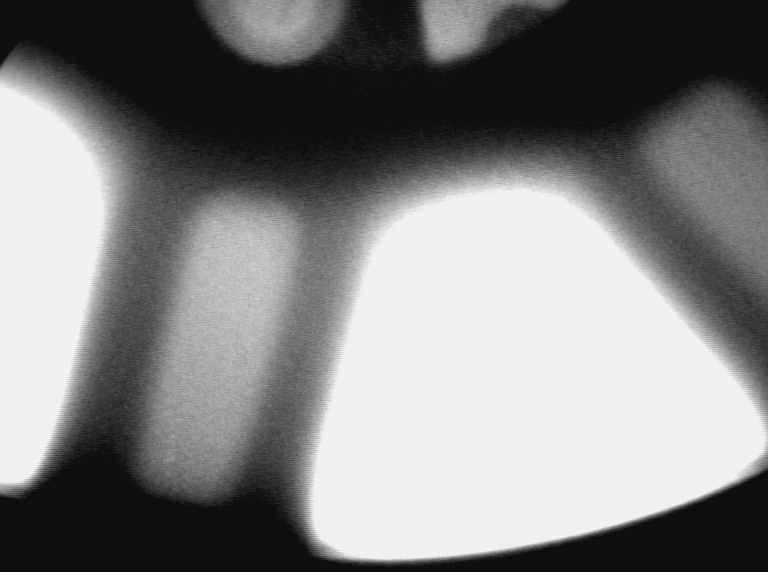defect: (159, 413, 179, 481)
